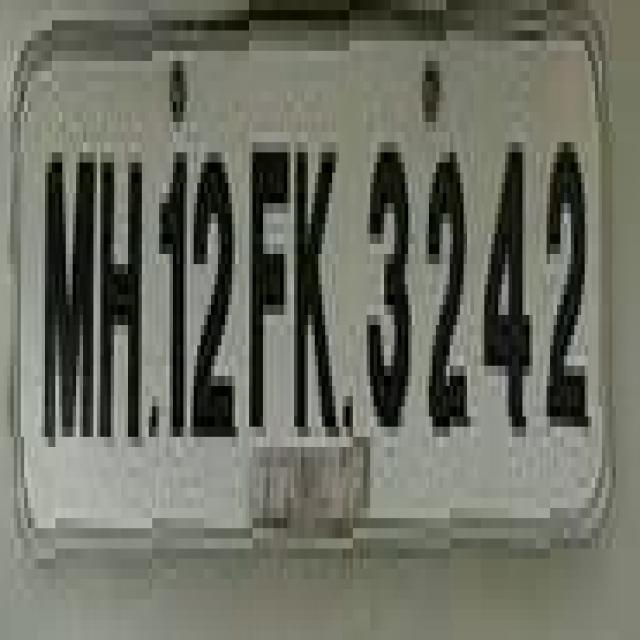license_plate: (0, 0, 612, 558)
